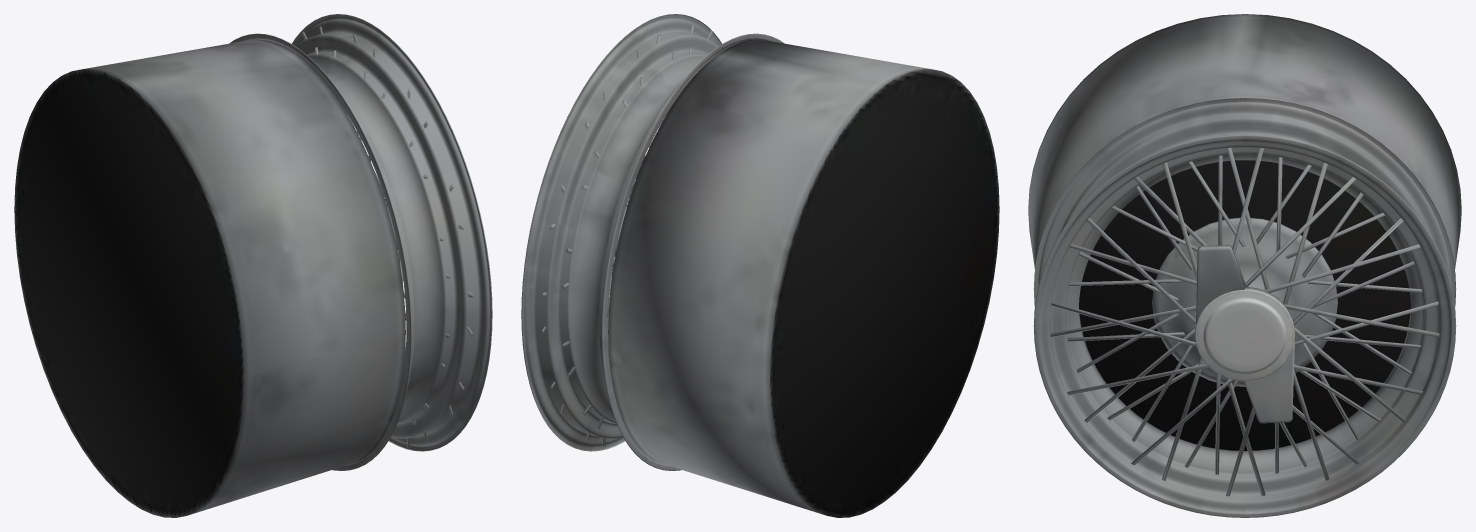
3 renders of one model, left to right at view 1: azimuth 30°, elevation 25°; view 2: azimuth 150°, elevation 25°; view 3: azimuth 270°, elevation 25°, orthographic. The views are drawn at different scales.
Visible parts, largest first — view 1: Phantom; view 2: Phantom; view 3: Phantom.
Boxes of the visible parts, x1,y1,x2,y2 form: Phantom: (14, 14, 492, 517); Phantom: (521, 14, 999, 517); Phantom: (1028, 14, 1461, 517).
Bounding box in the file's own units: 0.8399 × 1.21 × 1.21.
1 material, 1 textured.
